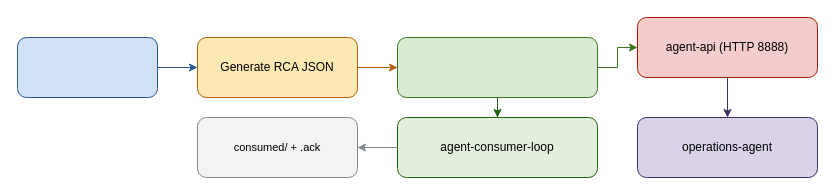
Image size: 835x195. Some labels were removed from this diagram. The centre of each missing label's shape, as x and y in pixels:
/tmp/agent_queue/rca_*.json: point (497, 67)
Log Scan: point (87, 67)
